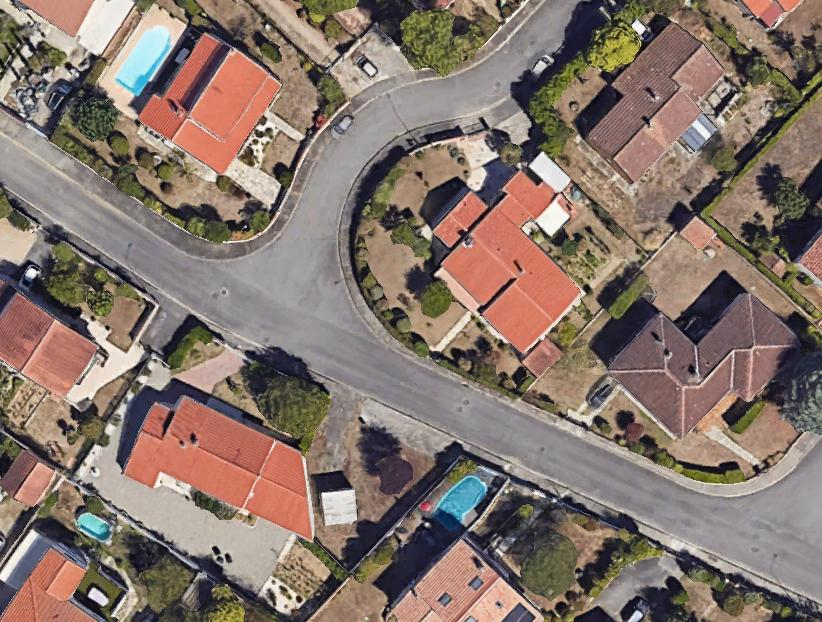maison: (402, 138, 627, 364), (603, 256, 805, 458), (120, 384, 343, 560), (569, 16, 753, 202), (134, 24, 284, 177), (392, 537, 542, 621), (0, 287, 101, 404), (0, 550, 94, 621), (20, 0, 93, 35), (734, 0, 803, 30), (797, 229, 821, 288)
